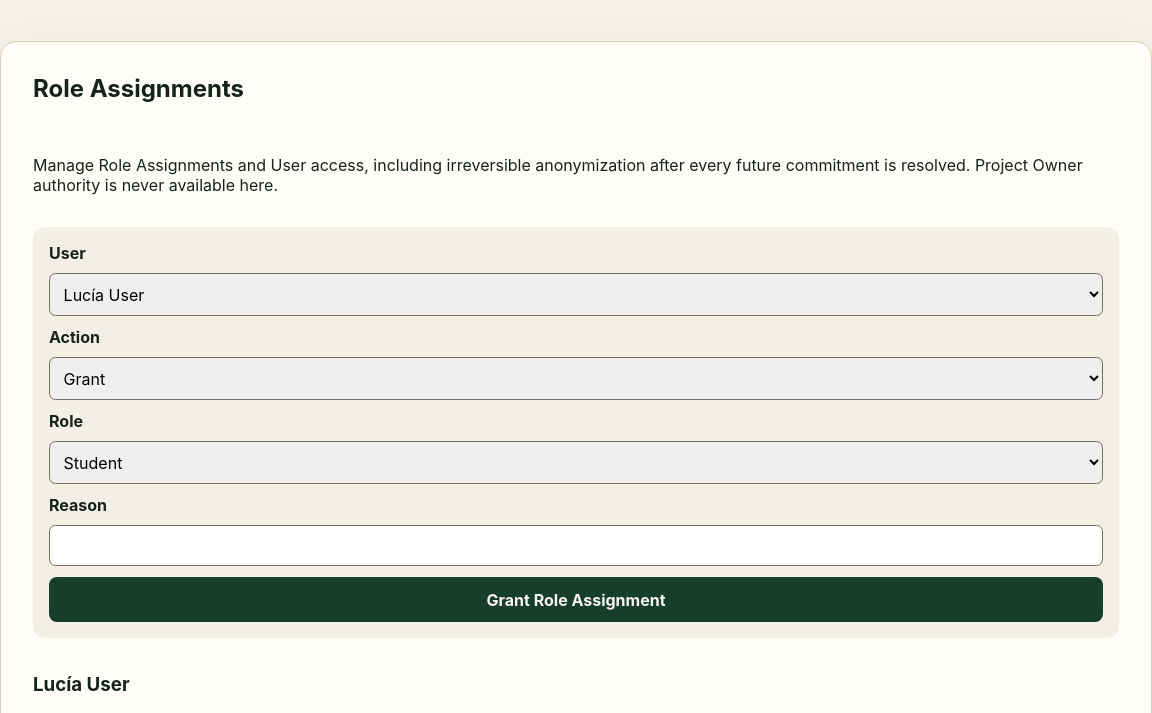
Test: Role Assignment administration › requires the deliberate phrase before anonymizing a User
The width and height of the screenshot is (1152, 713).
Expected: the heading "Role Assignments" is shown, [33,74,244,103]
Select "Anonymize" in the dropdown labelled "Action". click: (576, 379)
box: [49,357,1103,400]
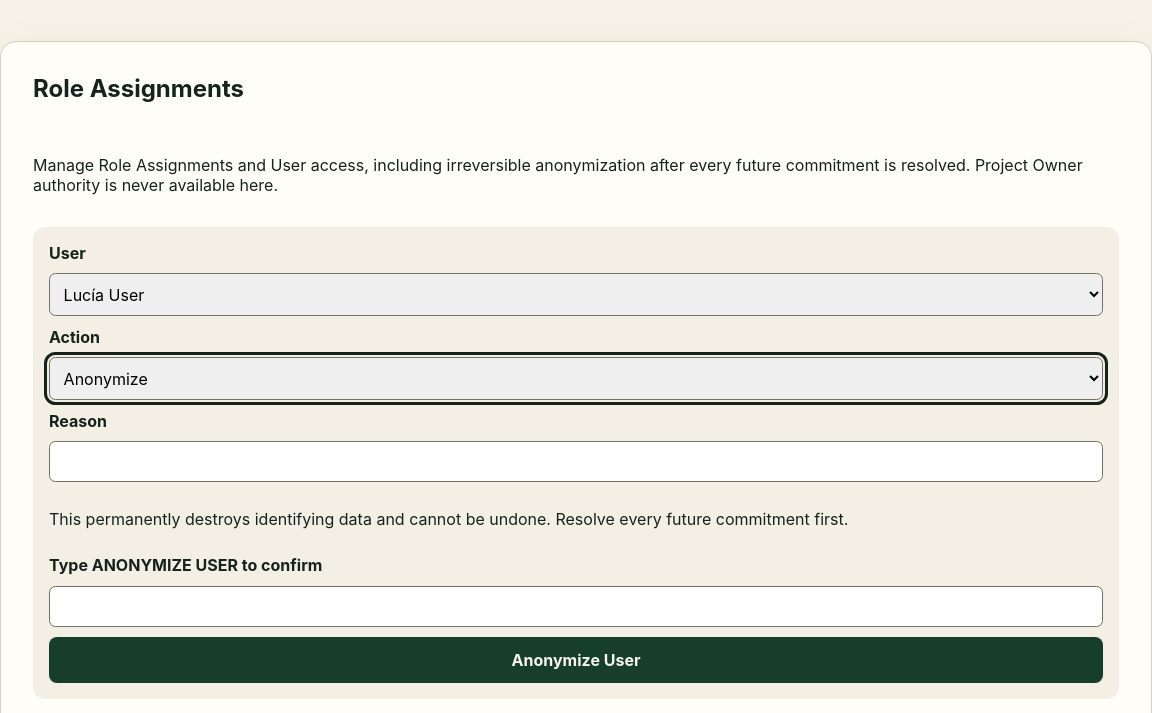
Type "User requested irreversible privacy action" into the field labelled "Reason". click: (576, 462)
box: [49,441,1103,482]
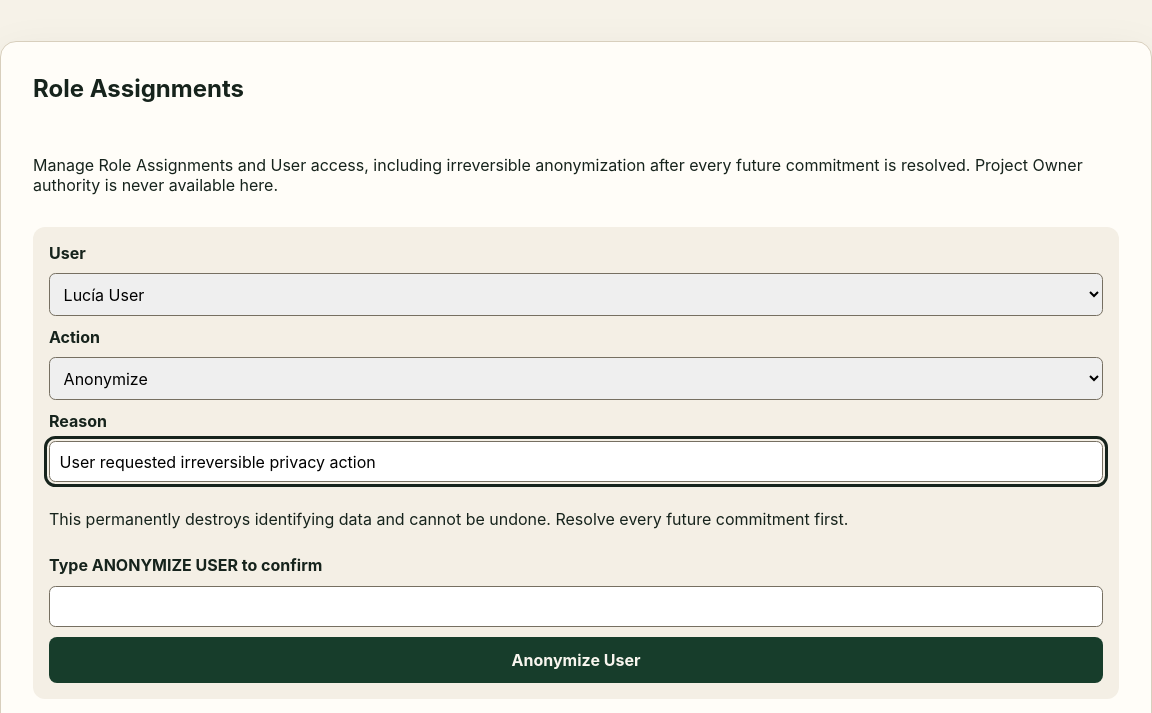
Expected: the button "Anonymize User" is disabled, [49,637,1103,683]
Type "ANONYMIZE USER" into the field labelled "Type ANONYMIZE USER to confirm". click: (576, 606)
box: [49,586,1103,627]
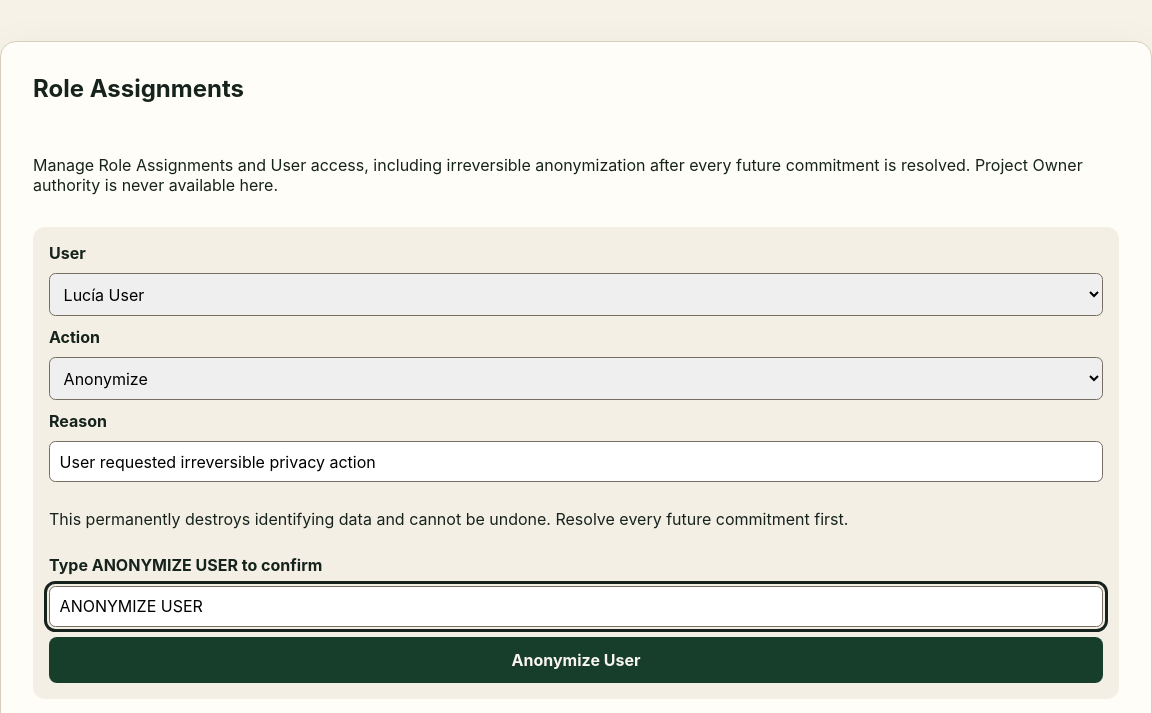
Click the button "Anonymize User". click: (576, 660)
box: [49,637,1103,683]
(page scrolled)
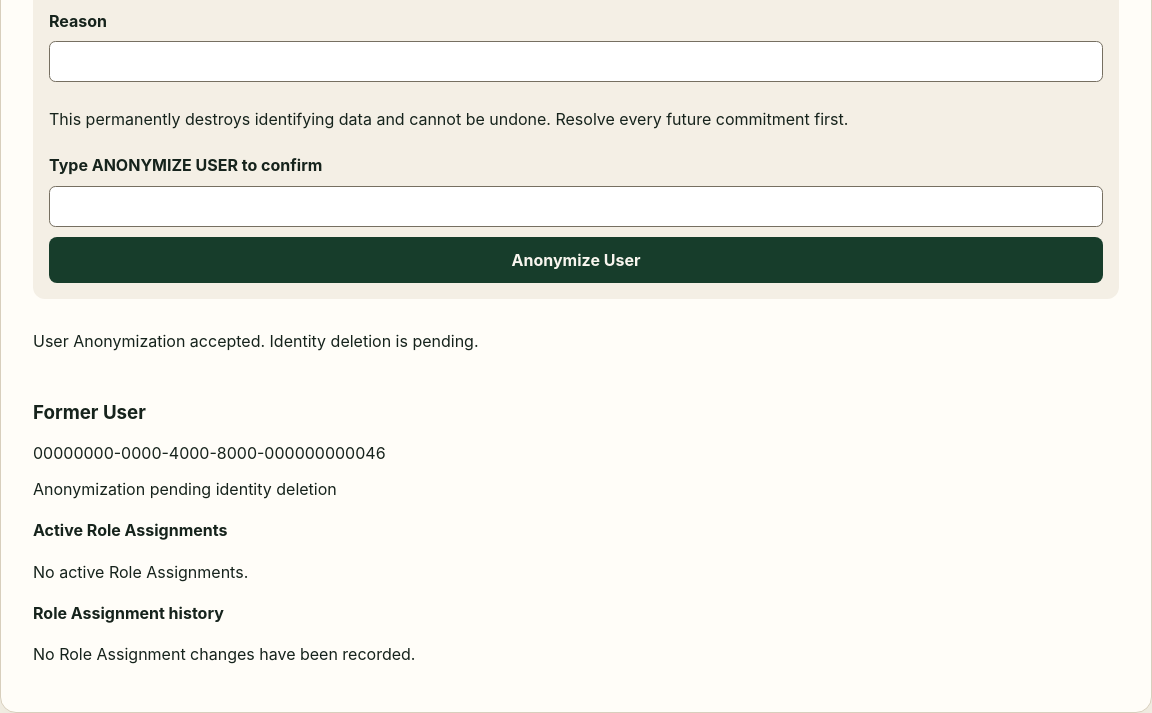
Expected: the message reads "User Anonymization accepted. Identity deletion is pending.", [33,331,478,351]
Expected: the heading "Former User" is shown, [33,402,146,424]
Expected: the text "Anonymization pending identity deletion" is shown, [33,479,337,499]
